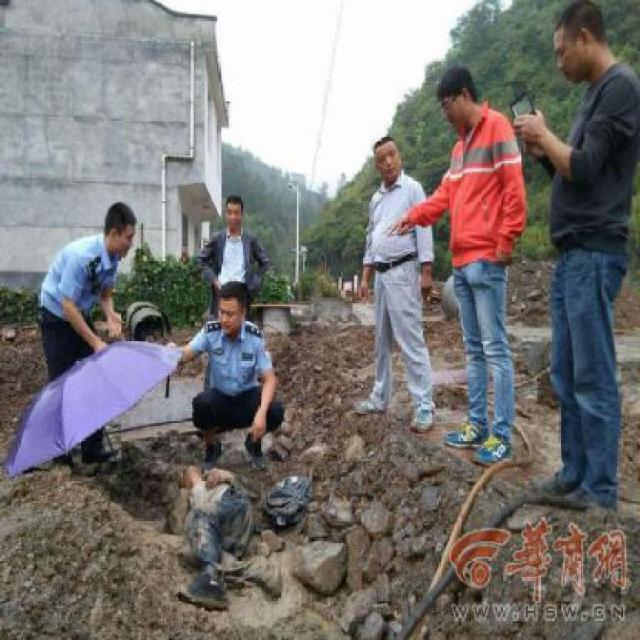fall: (157, 442, 280, 615)
